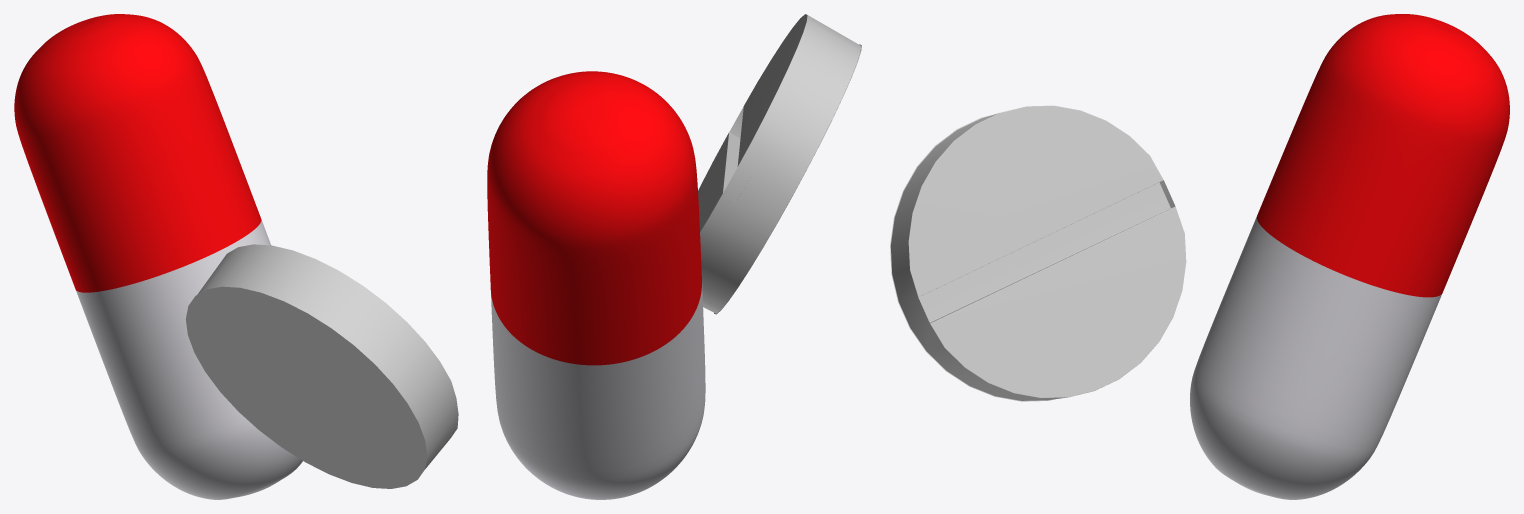
3 renders of one model, left to right at view 1: azimuth 30°, elevation 25°; view 2: azimuth 150°, elevation 25°; view 3: azimuth 270°, elevation 25°, orthographic. The views are drawn at different scales.
Parts seen in each view (by area): view 1: Cylinder, Cylinder.001; view 2: Cylinder, Cylinder.001; view 3: Cylinder, Cylinder.001.
Part boxes in pixels (x1,y1,x2,y2): Cylinder: [14, 14, 302, 499]; Cylinder.001: [185, 244, 458, 488]; Cylinder: [487, 71, 705, 499]; Cylinder.001: [698, 14, 861, 314]; Cylinder: [1190, 14, 1509, 499]; Cylinder.001: [890, 105, 1186, 401].
Size of the model in its own units: 2.25 by 4.23 by 5.37.
